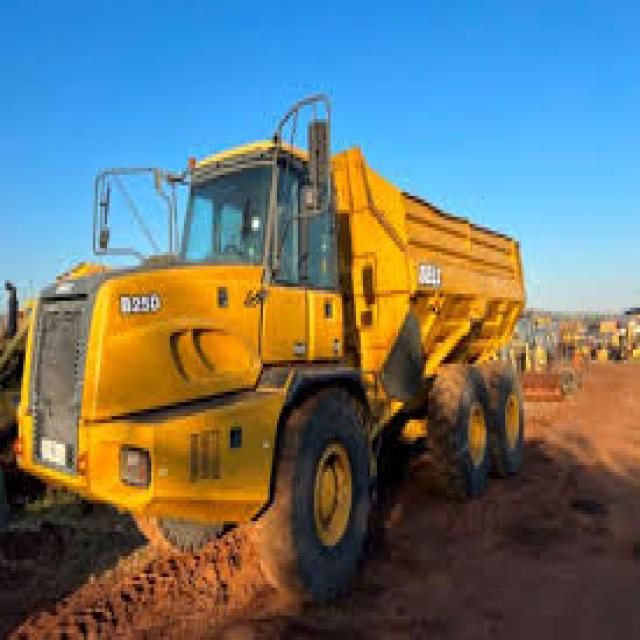dump_truck: (18, 94, 566, 580)
